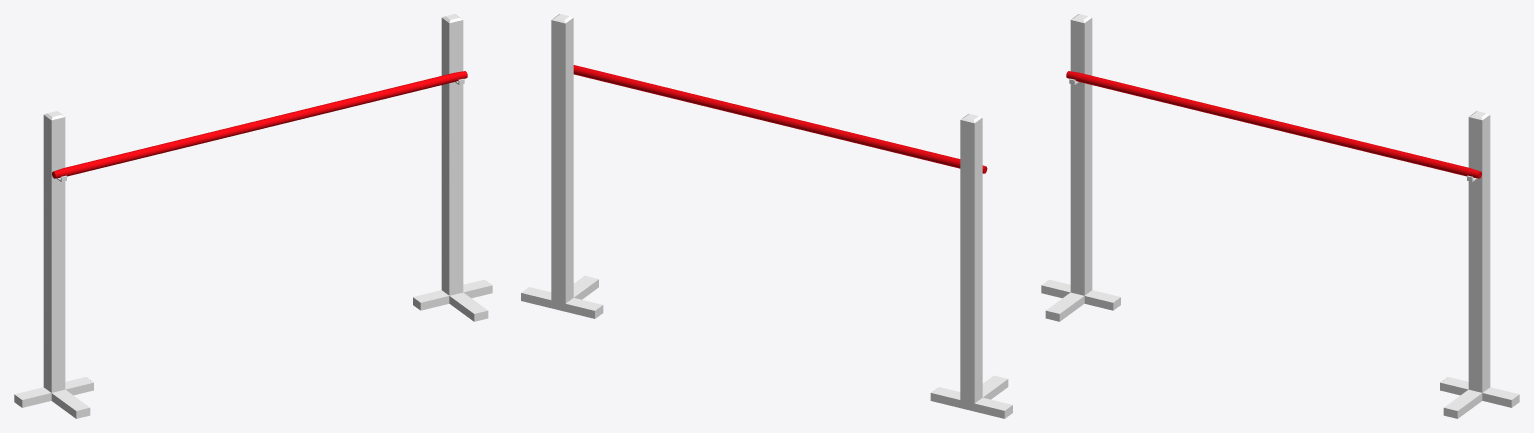
File: largebarricade.fbx
3 views of the same model, side by side, from view 1: azimuth 30°, elevation 25°; view 2: azimuth 150°, elevation 25°; view 3: azimuth 330°, elevation 25° (orthographic). The views are drawn at different scales.
Visible parts, largest first — view 1: Cube.001, Cylinder; view 2: Cube.001, Cylinder; view 3: Cube.001, Cylinder.
Boxes of the visible parts, x1,y1,x2,y2 form: Cube.001: [14, 14, 492, 418]; Cylinder: [52, 71, 467, 178]; Cube.001: [521, 14, 1012, 418]; Cylinder: [573, 65, 987, 173]; Cube.001: [1041, 14, 1519, 418]; Cylinder: [1066, 71, 1481, 178].
Bounding box in the file's own units: 220 × 126 × 26.53.
3 materials, 3 textured.
